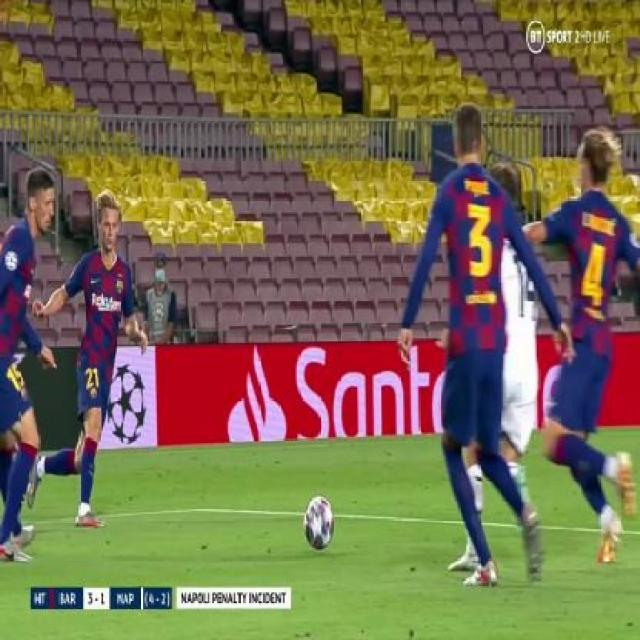ball: (299, 487, 339, 556)
player: (390, 80, 572, 589), (519, 103, 636, 577), (30, 180, 153, 536), (0, 169, 62, 566)
